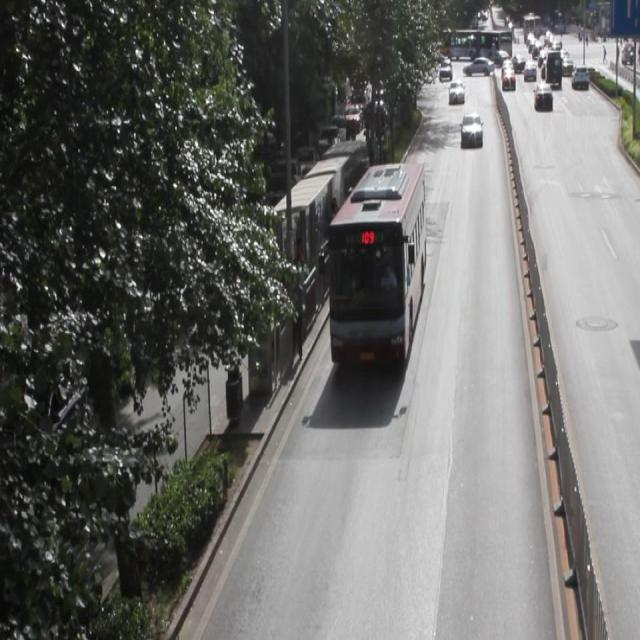car: (460, 113, 482, 145)
van: (328, 164, 425, 368)
